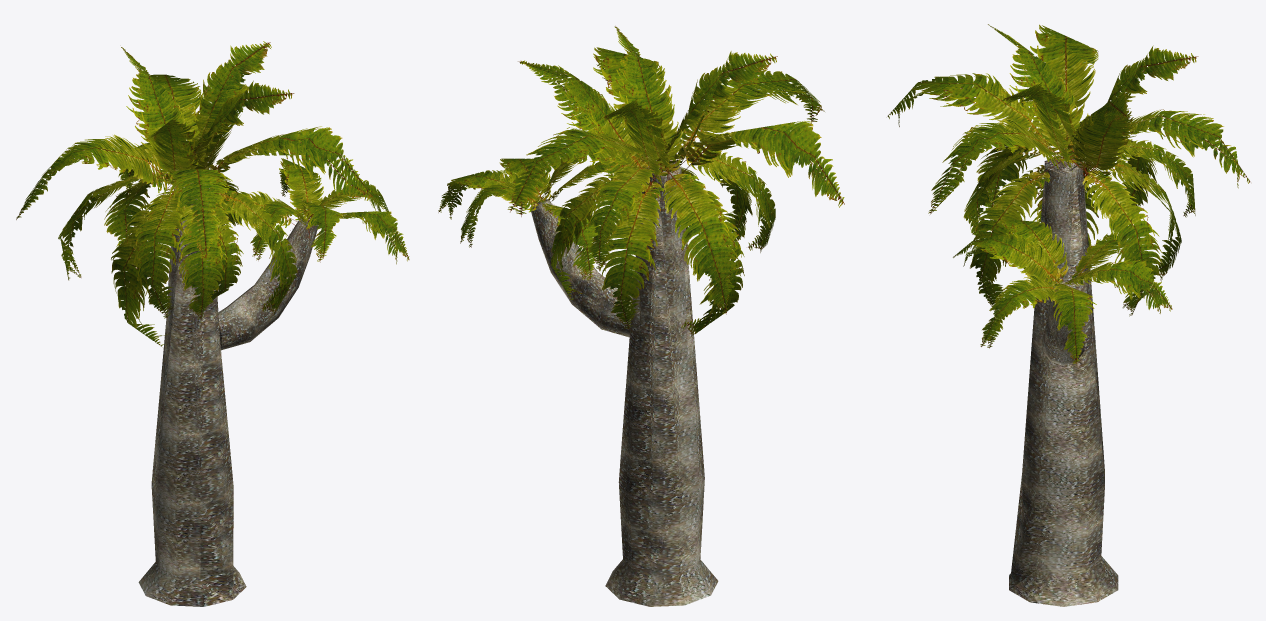
The model's file is Williamsonia_01.DAE.
3 views of the same model, side by side, from view 1: azimuth 30°, elevation 25°; view 2: azimuth 150°, elevation 25°; view 3: azimuth 270°, elevation 25° (orthographic). The views are drawn at different scales.
Parts seen in each view (by area): view 1: Williamsonia300, Williamsonia200, Williamsonia150; view 2: Williamsonia300, Williamsonia200, Williamsonia150; view 3: Williamsonia300, Williamsonia200, Williamsonia150.
Part boxes in pixels (bbox=[...]): Williamsonia300: bbox=[16, 43, 408, 606]; Williamsonia200: bbox=[45, 41, 409, 577]; Williamsonia150: bbox=[16, 44, 397, 599]; Williamsonia300: bbox=[439, 27, 844, 606]; Williamsonia200: bbox=[438, 26, 821, 575]; Williamsonia150: bbox=[446, 31, 844, 333]; Williamsonia300: bbox=[887, 25, 1250, 606]; Williamsonia200: bbox=[918, 24, 1216, 572]; Williamsonia150: bbox=[897, 24, 1239, 589].
Size of what is drawn, in the model's own units: 5.53 by 4.34 by 7.17.
